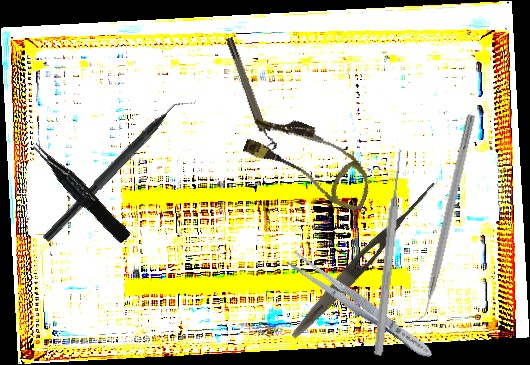Cannula: (236, 106, 384, 214)
Chopper: (41, 86, 199, 253), (405, 109, 477, 332)
Dressing Forceps: (287, 174, 441, 344), (284, 248, 437, 364)
Fixation Ring: (223, 34, 279, 154)
Pusher: (372, 146, 407, 357)
Tissue Forceps: (30, 135, 132, 248)
